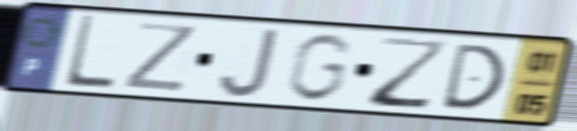D: (438, 41, 508, 112)
G: (282, 31, 356, 105)
J: (216, 25, 283, 100)
L: (61, 13, 118, 92)
Z: (366, 34, 453, 113), (120, 19, 201, 94)
